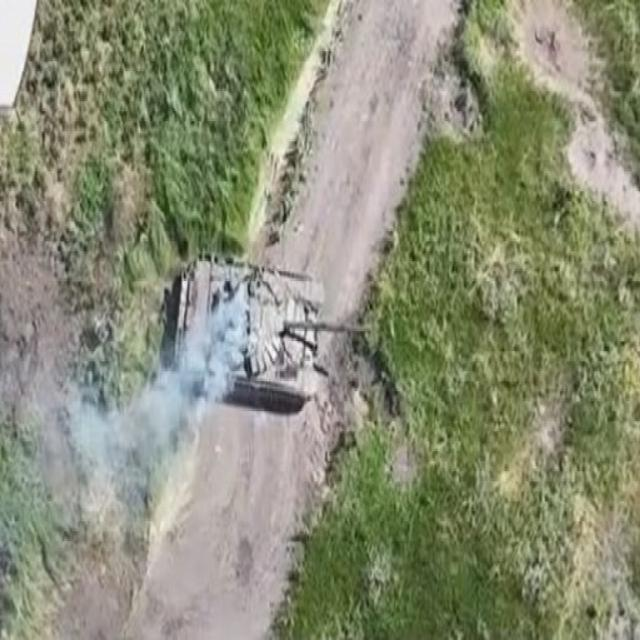TANK: (166, 235, 375, 416)
